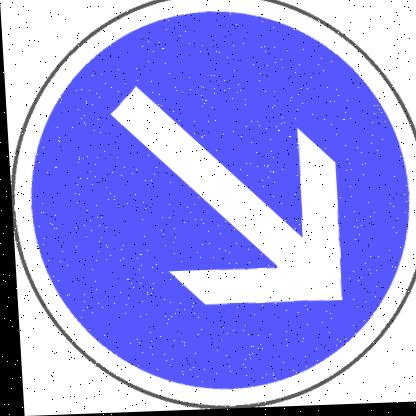Keep right: (8, 0, 416, 413)
